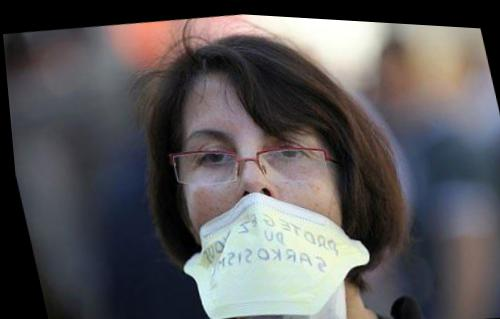WRONG: (164, 100, 363, 298)
